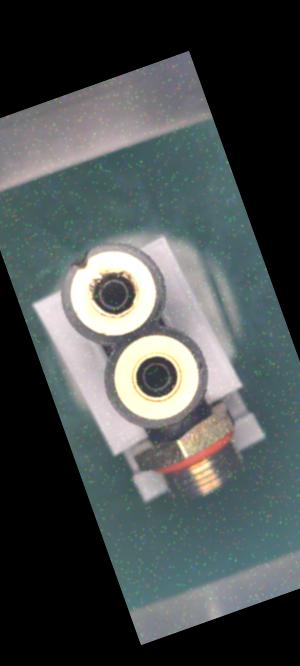bump: (63, 247, 97, 279)
craze: (174, 421, 188, 435)
